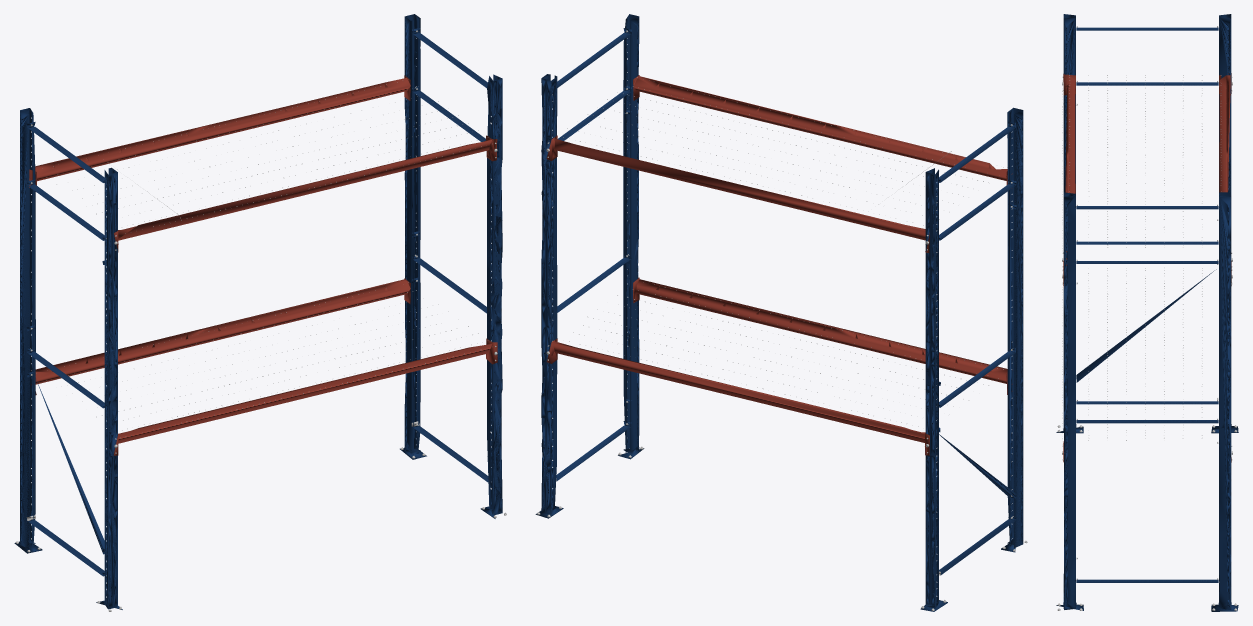
File: rack_h3m_s02.glb
The picture shows the model from 3 angles, left to right: view 1: azimuth 30°, elevation 25°; view 2: azimuth 150°, elevation 25°; view 3: azimuth 270°, elevation 25°; orthographic projection. The views are drawn at different scales.
Visible parts, largest first — view 1: sm_rack_h3m_s02_mesh_00; view 2: sm_rack_h3m_s02_mesh_00; view 3: sm_rack_h3m_s02_mesh_00.
Part boxes in pixels (x1,y1,x2,y2): sm_rack_h3m_s02_mesh_00: (14, 14, 506, 611); sm_rack_h3m_s02_mesh_00: (535, 14, 1027, 611); sm_rack_h3m_s02_mesh_00: (1056, 14, 1238, 611).
Bounding box in the file's own units: 2.88 × 3 × 1.2.
